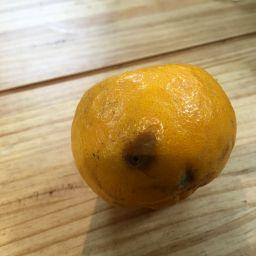Unripe: (69, 65, 237, 208)
